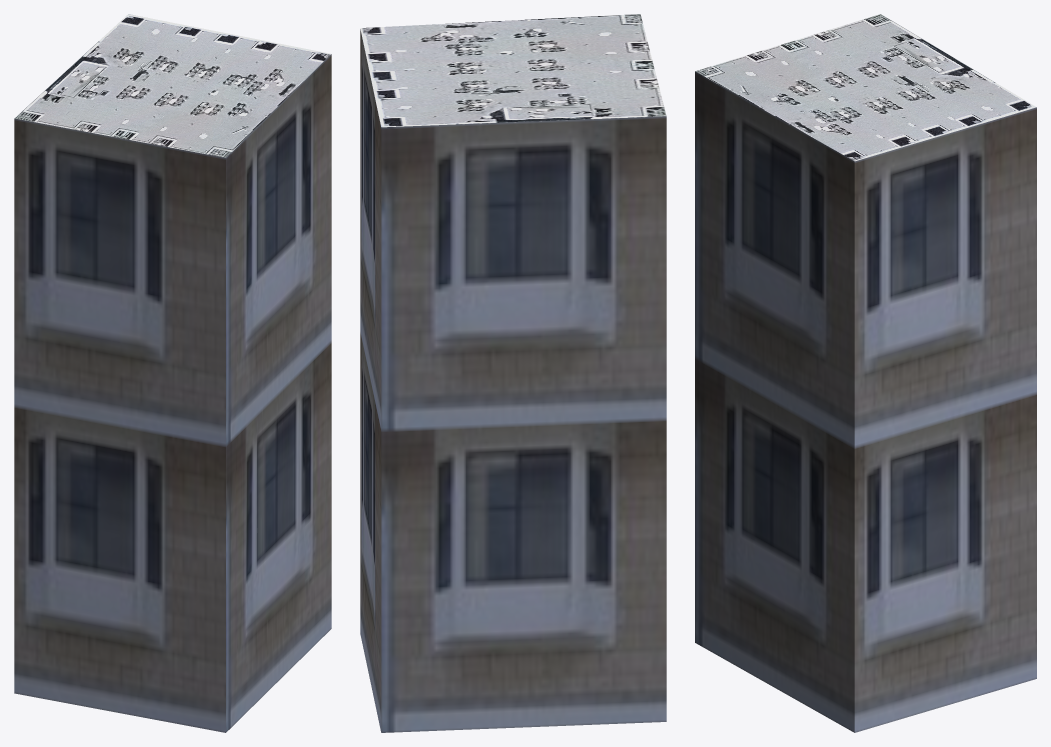
File: ResTex__34.fbx
3 views of the same model, side by side, from view 1: azimuth 30°, elevation 25°; view 2: azimuth 150°, elevation 25°; view 3: azimuth 270°, elevation 25° (orthographic). The views are drawn at different scales.
Visible parts, largest first — view 1: CityEngineMaterial_3_m, CityEngineMaterial_4_m; view 2: CityEngineMaterial_3_m, CityEngineMaterial_4_m; view 3: CityEngineMaterial_3_m, CityEngineMaterial_4_m.
Boxes of the visible parts, bbox=[...] form: CityEngineMaterial_3_m: bbox=[14, 54, 331, 732]; CityEngineMaterial_4_m: bbox=[14, 14, 330, 157]; CityEngineMaterial_3_m: bbox=[360, 29, 666, 732]; CityEngineMaterial_4_m: bbox=[360, 14, 666, 127]; CityEngineMaterial_3_m: bbox=[695, 71, 1036, 732]; CityEngineMaterial_4_m: bbox=[695, 14, 1036, 161].
Bounding box in the file's own units: 3.32 × 6 × 3.25.
Materials: 2 (2 with a texture image).
